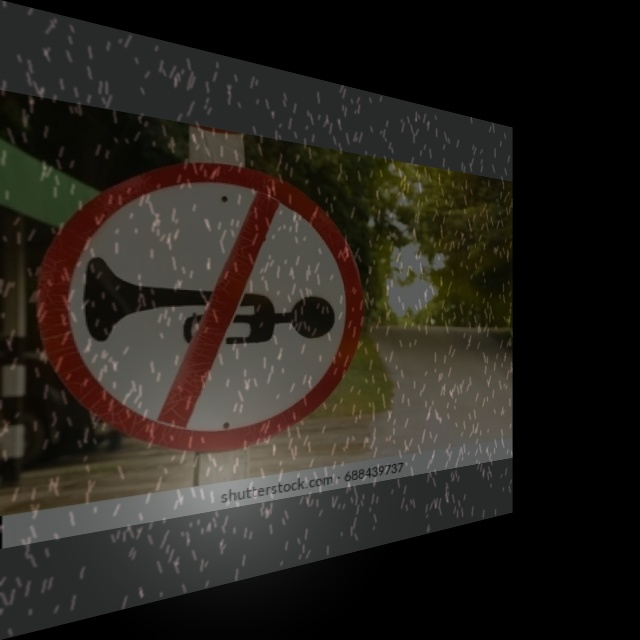Horn_Prohibited: (57, 155, 355, 451)
